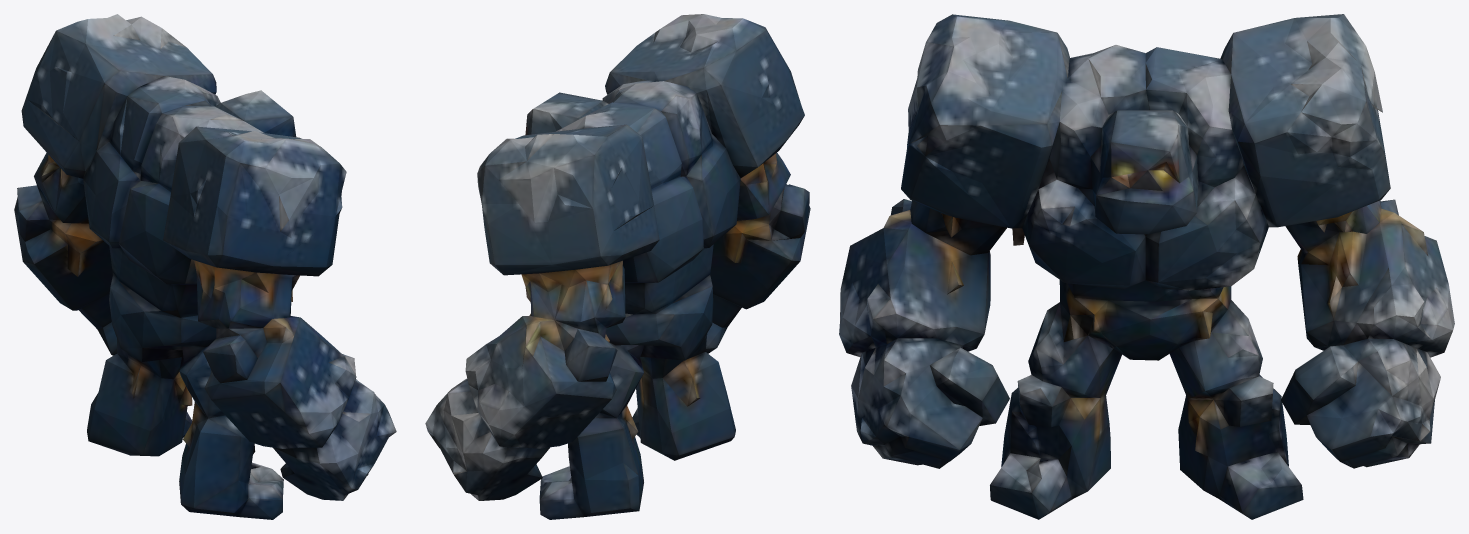
File: foe_saltGolem.glb
3 renders of one model, left to right at view 1: azimuth 30°, elevation 25°; view 2: azimuth 150°, elevation 25°; view 3: azimuth 270°, elevation 25°, orthographic. The views are drawn at different scales.
Visible parts, largest first — view 1: tripo_node_df4d4219-4027-45cc-85e4-d5573655d2e5.001; view 2: tripo_node_df4d4219-4027-45cc-85e4-d5573655d2e5.001; view 3: tripo_node_df4d4219-4027-45cc-85e4-d5573655d2e5.001.
Boxes of the visible parts, left/top/right/bottom form: tripo_node_df4d4219-4027-45cc-85e4-d5573655d2e5.001: left=14, top=14, right=396, bottom=519; tripo_node_df4d4219-4027-45cc-85e4-d5573655d2e5.001: left=425, top=14, right=810, bottom=519; tripo_node_df4d4219-4027-45cc-85e4-d5573655d2e5.001: left=839, top=14, right=1454, bottom=519.
Bounding box in the file's own units: 0.3937 × 0.8276 × 0.9957.
Materials: 1 (1 with a texture image).
